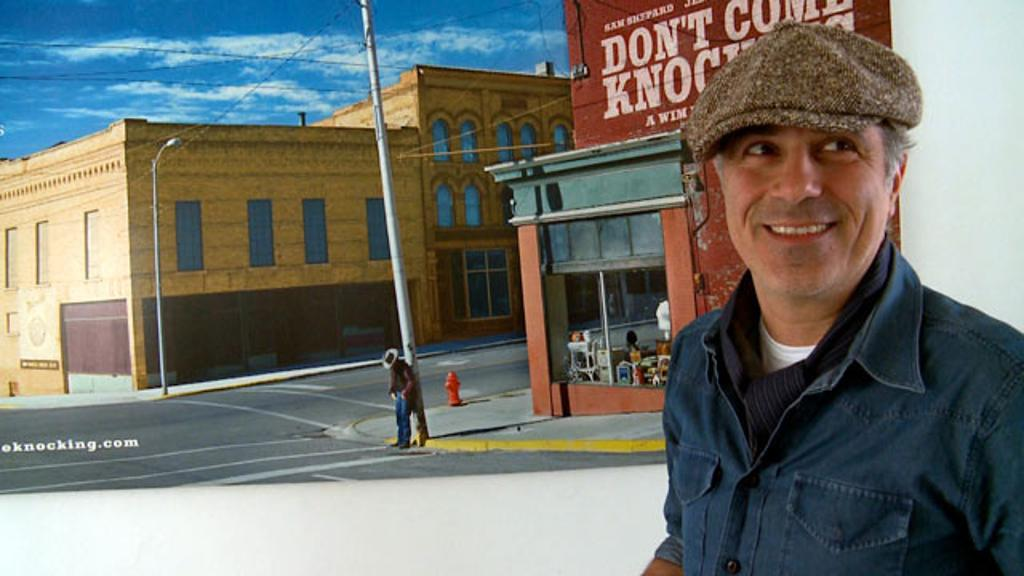face: (730, 76, 884, 292)
